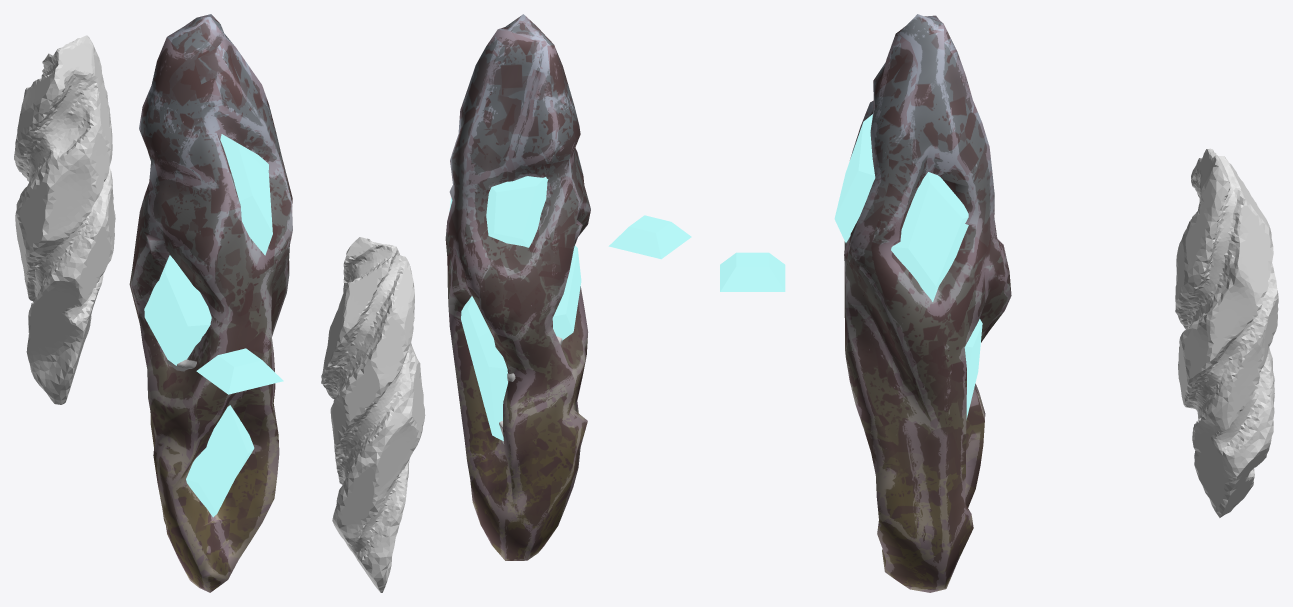
Rendered from FloatingCylinder Crystal.fbx.
The picture shows the model from 3 angles, left to right: view 1: azimuth 30°, elevation 25°; view 2: azimuth 150°, elevation 25°; view 3: azimuth 270°, elevation 25°; orthographic projection. The views are drawn at different scales.
Parts seen in each view (by area): view 1: FloatingCylinder_1_IM, Cylinder, Plane.001, Plane.005, Plane.003, Plane; view 2: FloatingCylinder_1_IM, Cylinder, Plane.004, Plane.006, Plane, Plane.001; view 3: FloatingCylinder_1_IM, Cylinder, Plane.002, Plane.003, Plane, Plane.006.
Boxes of the visible parts, x1,y1,x2,y2 form: FloatingCylinder_1_IM: (129,14,292,592); Cylinder: (14,35,115,404); Plane.001: (144,255,211,365); Plane.005: (186,405,254,517); Plane.003: (220,134,272,255); Plane: (196,348,283,394); FloatingCylinder_1_IM: (445,14,590,560); Cylinder: (321,237,425,592); Plane.004: (486,176,548,247); Plane.006: (461,296,507,440); Plane: (608,215,691,259); Plane.001: (552,245,581,340); FloatingCylinder_1_IM: (844,14,1011,592); Cylinder: (1175,148,1278,517); Plane.002: (891,172,968,301); Plane.003: (834,114,875,242); Plane: (720,252,785,291); Plane.006: (964,319,982,419).
Bounding box in the file's own units: 541 × 1955 × 1719.
